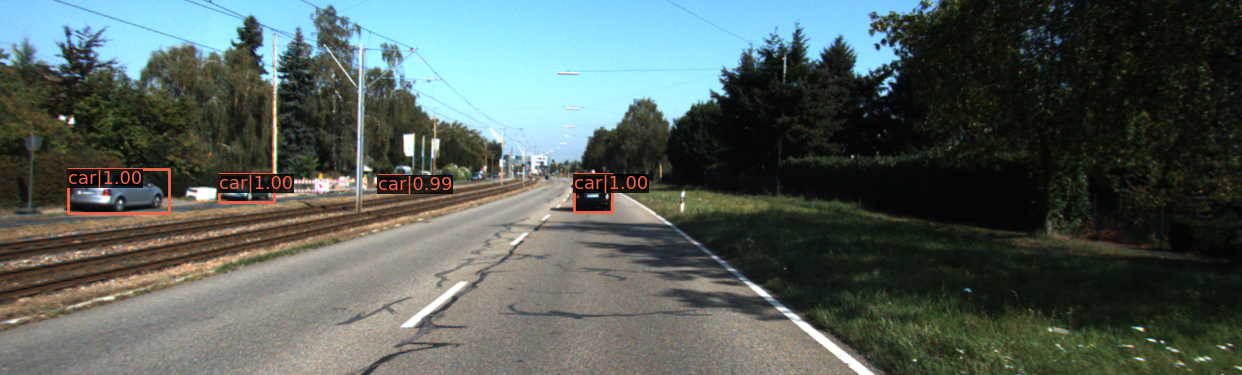car: (71, 169, 165, 212), (219, 176, 277, 204), (575, 175, 613, 213)
